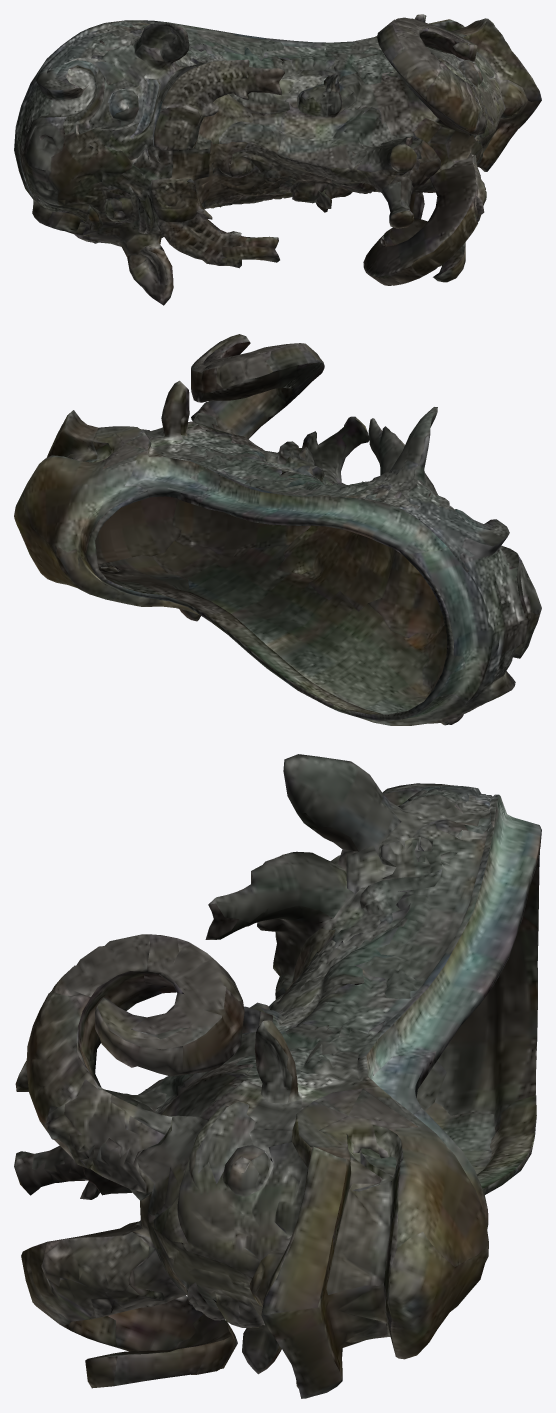
The model's file is ewer-lid-20k-512-thumb.glb.
3 views of the same model, one above another, from view 1: azimuth 30°, elevation 25°; view 2: azimuth 150°, elevation 25°; view 3: azimuth 270°, elevation 25° (orthographic). The views are drawn at different scales.
Size of the model in its own units: 0.2607 by 0.1431 by 0.1468.
1 material, 1 textured.
